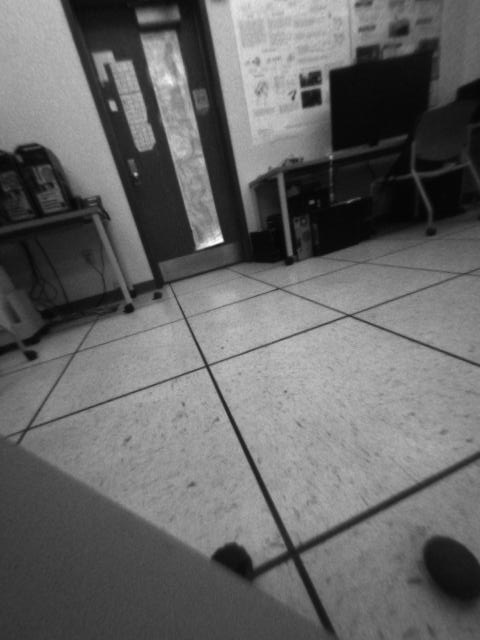dogtoy: (416, 519, 480, 613)
